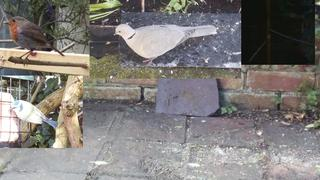blue tit: (9, 100, 59, 128)
collared dove: (114, 24, 217, 65)
robin: (3, 16, 66, 68)
